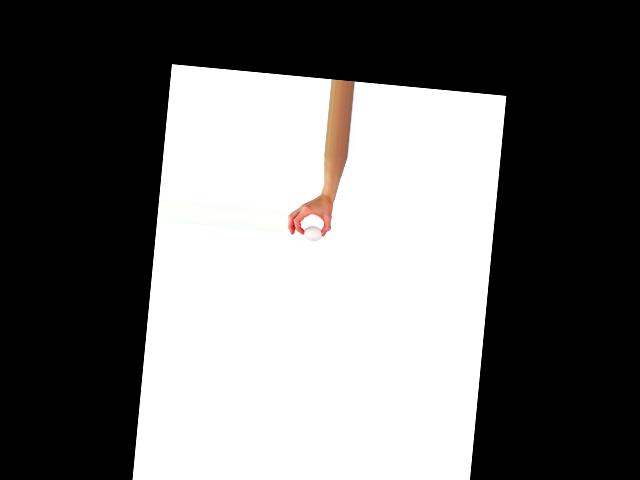egg: (303, 225, 323, 241)
